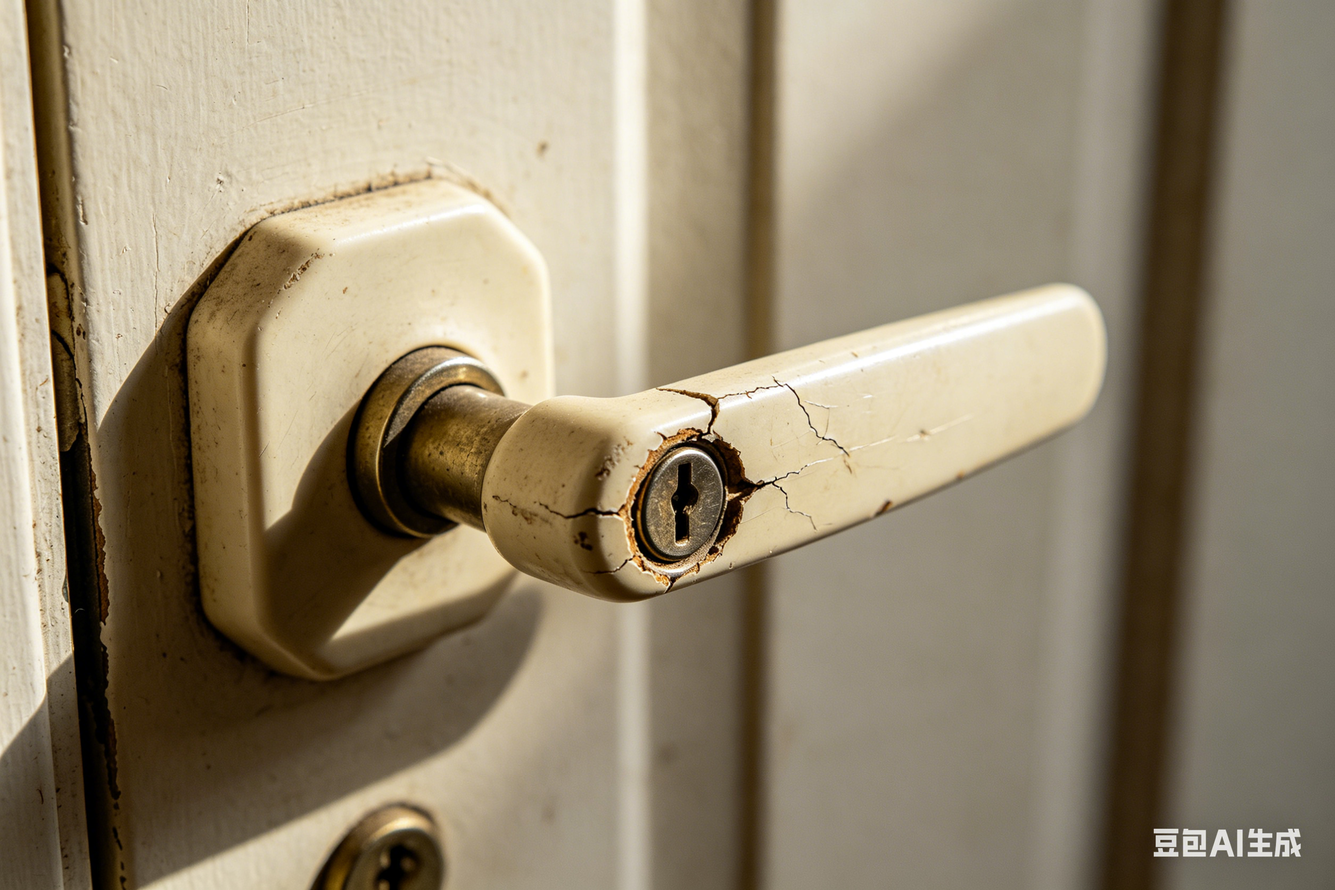BadLock: (522, 390, 786, 592)
